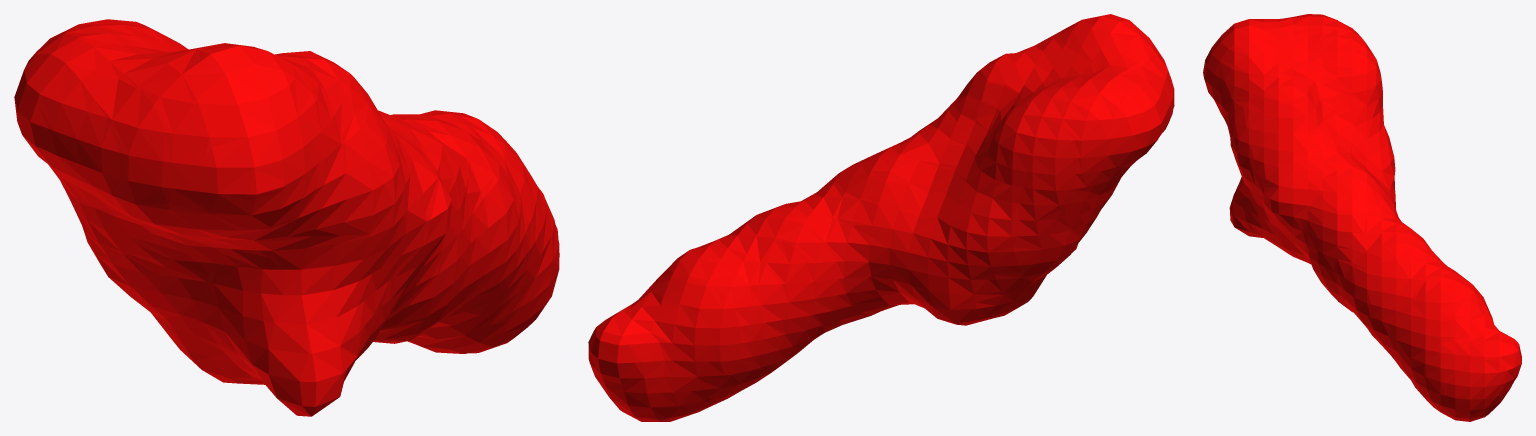
The model's file is xseB_coarse.dae.
3 views of the same model, side by side, from view 1: azimuth 30°, elevation 25°; view 2: azimuth 150°, elevation 25°; view 3: azimuth 270°, elevation 25° (orthographic). The views are drawn at different scales.
Parts seen in each view (by area): view 1: xseB; view 2: xseB; view 3: xseB.
Boxes of the visible parts, x1,y1,x2,y2 form: xseB: [14, 19, 559, 416]; xseB: [588, 14, 1174, 421]; xseB: [1203, 14, 1521, 421].
Bounding box in the file's own units: 53.42 × 41.97 × 43.2.
